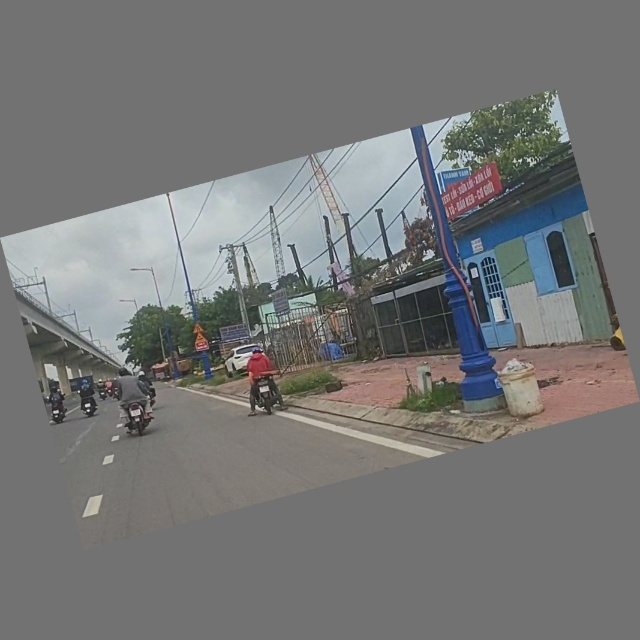W.203c: (192, 323, 206, 334)
W.245a: (193, 332, 207, 343)
